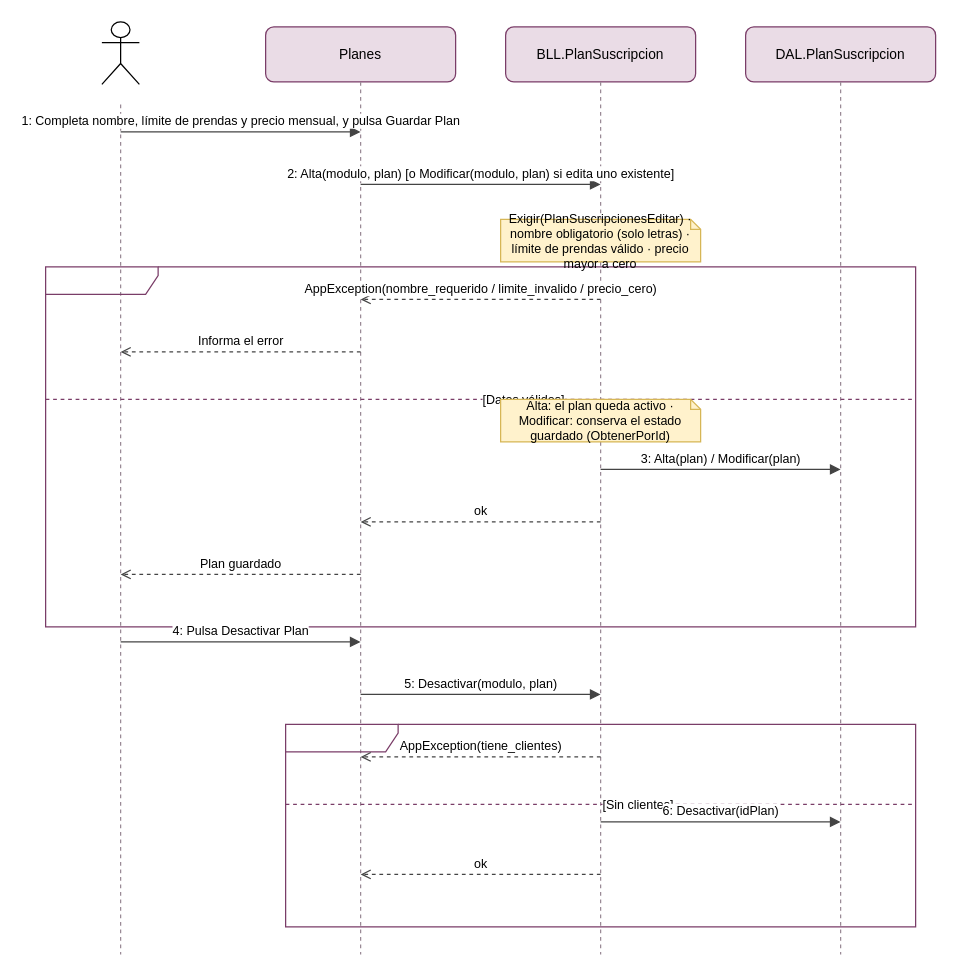
The diagram is 958 pixels wide and 978 high, and some of its shapes have lost their labels. The box of each missing label's shape, as (x1, y1, x2, y2) in pixels:
alt [Datos inválidos]: (44, 266, 916, 627)
alt [El plan tiene clientes asignados]: (284, 723, 916, 927)
Vendedor: (101, 21, 139, 84)
